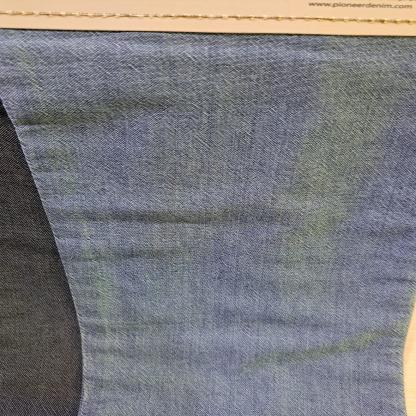spot: (13, 43, 280, 358), (249, 38, 412, 322), (214, 304, 403, 375)
